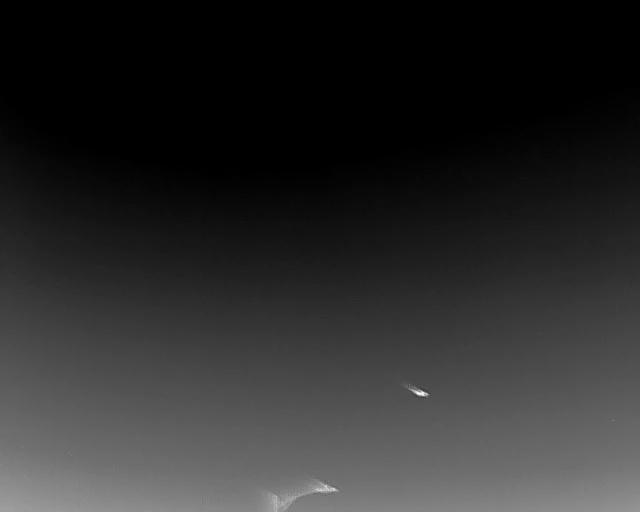fpv-drone: (403, 383, 429, 397)
